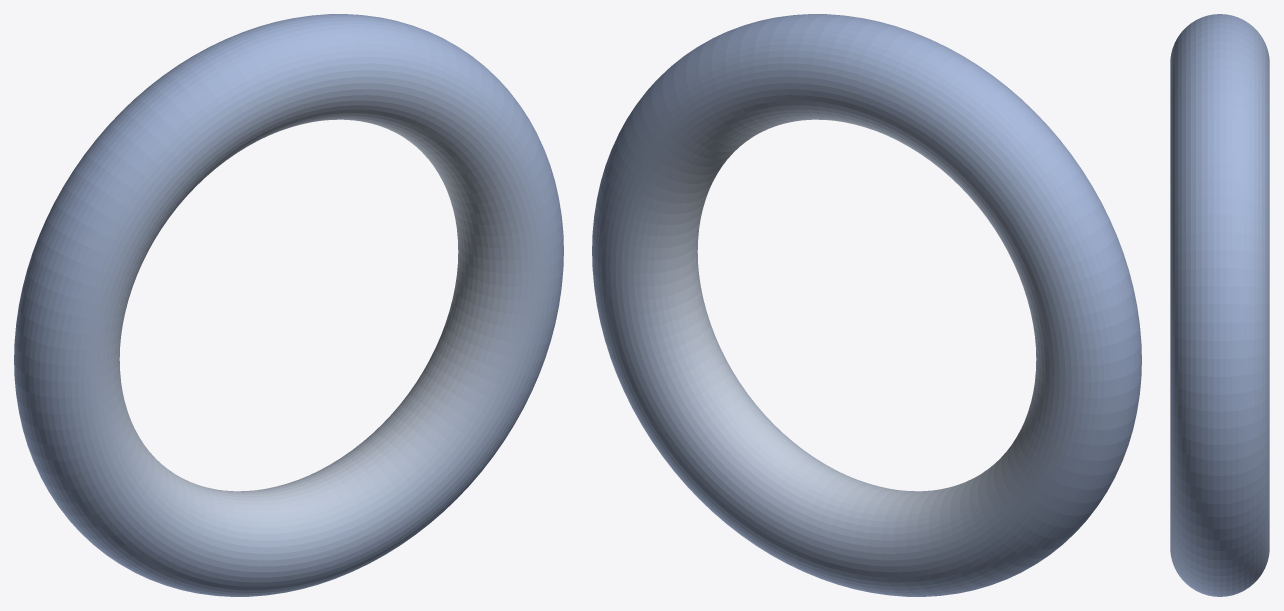
The picture shows the model from 3 angles, left to right: view 1: azimuth 30°, elevation 25°; view 2: azimuth 150°, elevation 25°; view 3: azimuth 270°, elevation 25°; orthographic projection. The views are drawn at different scales.
Parts seen in each view (by area): view 1: world; view 2: world; view 3: world.
Boxes of the visible parts, x1,y1,x2,y2 form: world: [14, 14, 563, 596]; world: [592, 14, 1141, 596]; world: [1170, 14, 1269, 596].
Bounding box in the file's own units: 25.73 × 25.73 × 4.39.
